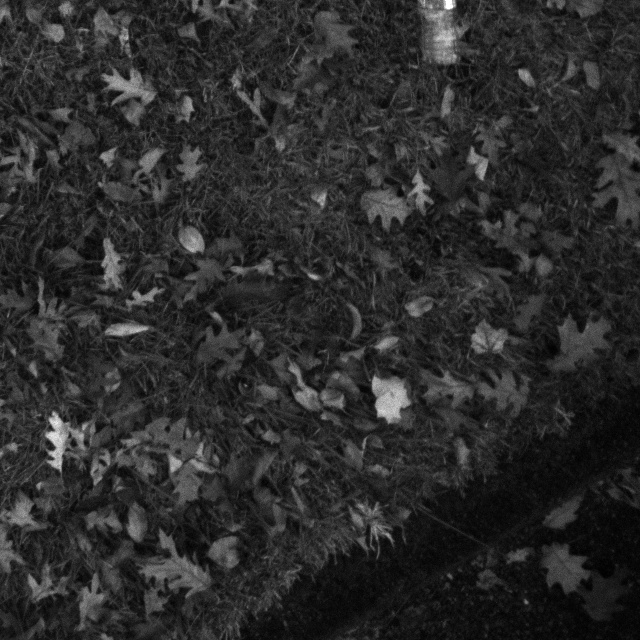bottle: (406, 0, 476, 81)
